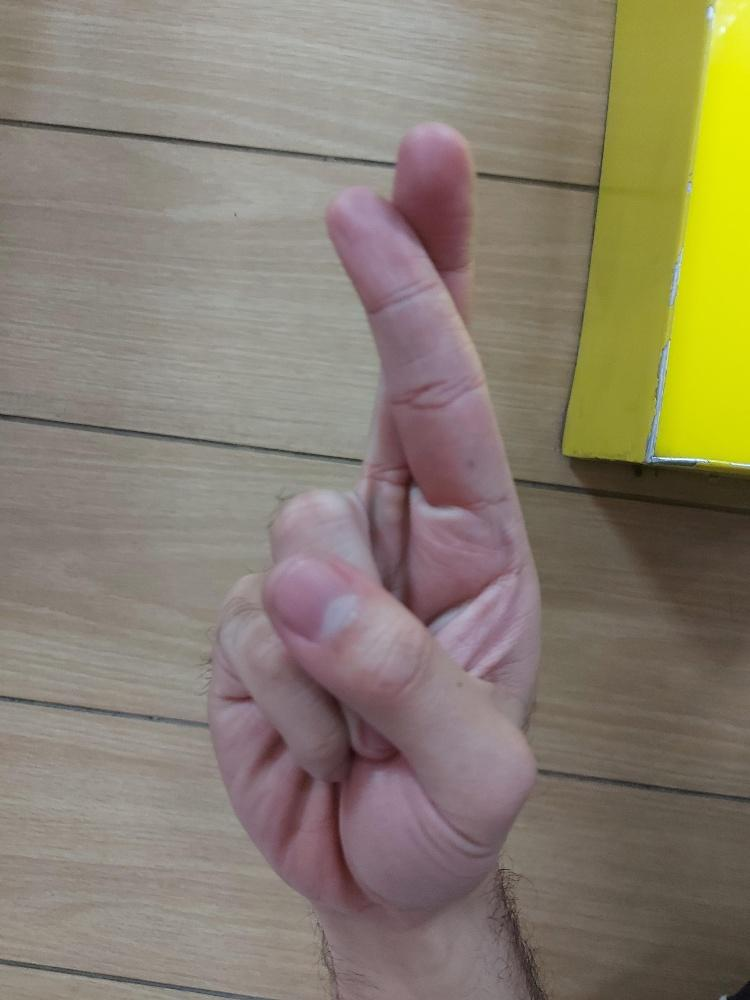r: (208, 115, 542, 924)
